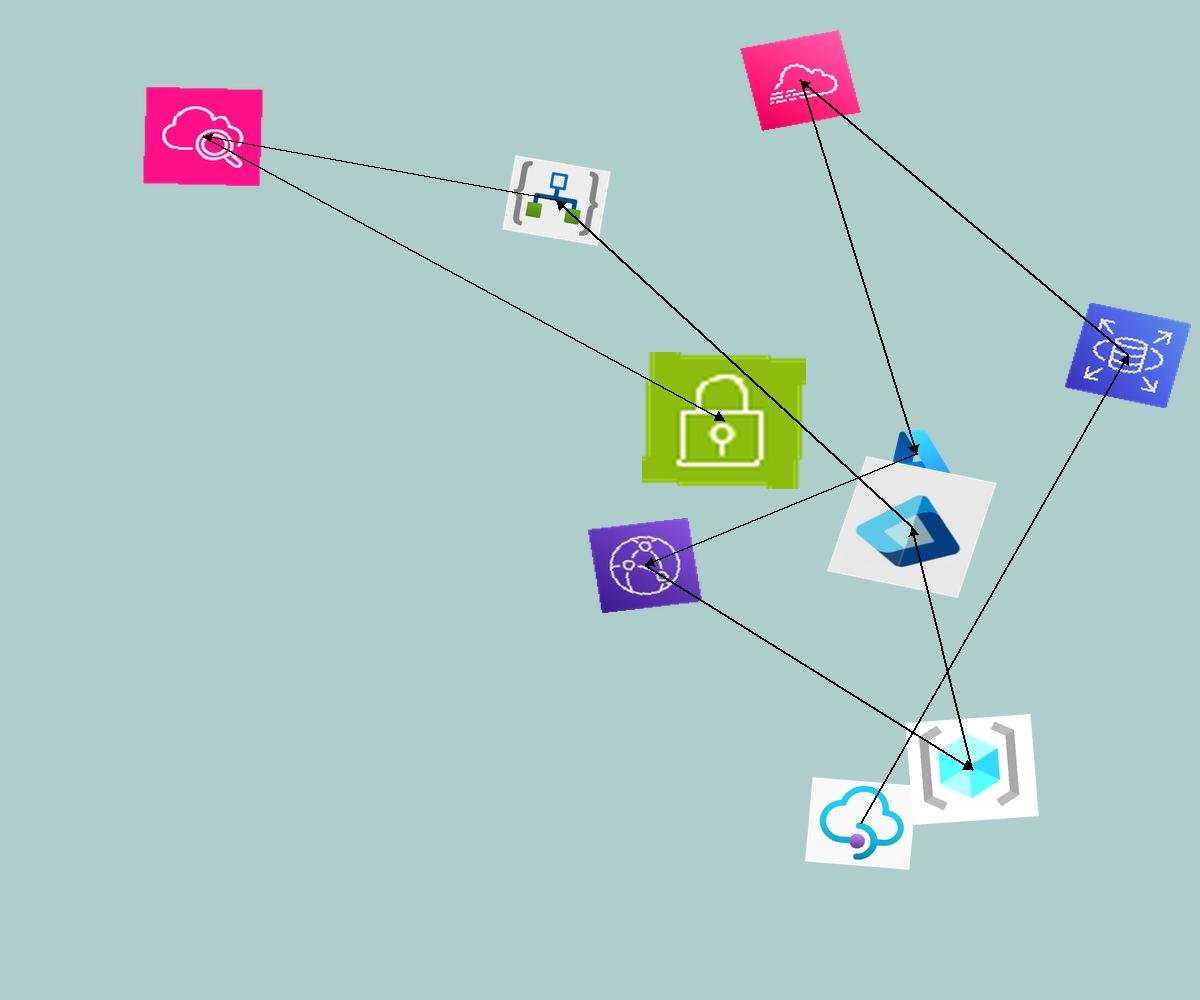AWS-CloudFront: (587, 517, 703, 614)
AWS-CloudTrail: (740, 30, 861, 131)
AWS-CloudWatch: (142, 86, 264, 187)
AWS-Public-subnet: (642, 352, 806, 489)
AWS-RDS: (1064, 302, 1192, 409)
Azure_api_gateway: (805, 777, 917, 870)
Azure_integration-204-Logic-Apps: (502, 155, 611, 246)
Azure_microsoft_entra: (827, 456, 997, 598)
Azure_resource_group: (905, 714, 1039, 825)
Azure_services: (878, 423, 954, 486)
